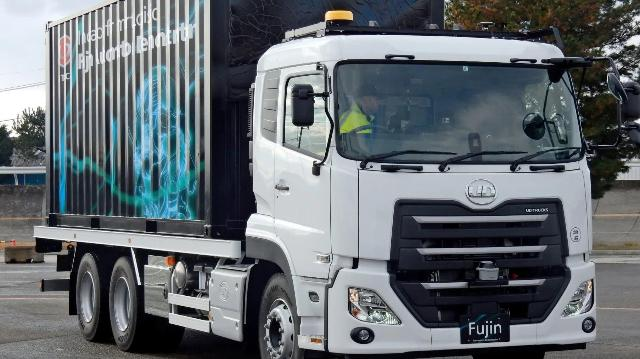truck: (21, 0, 631, 352)
